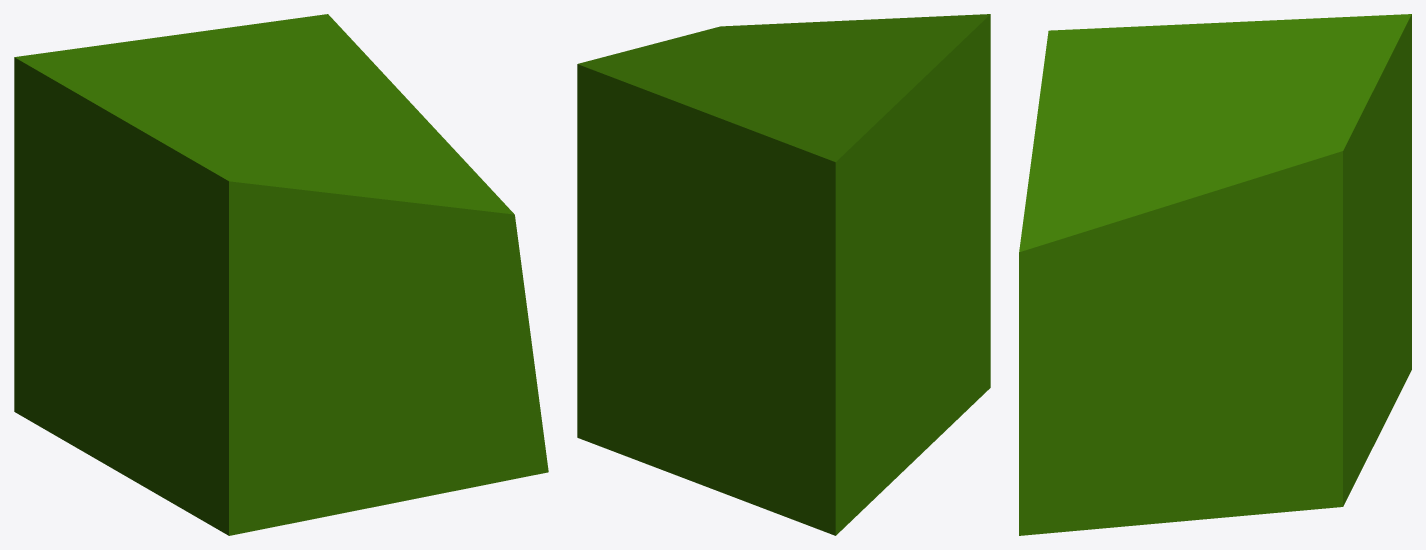
The model's file is BuildingSix.fbx.
3 renders of one model, left to right at view 1: azimuth 30°, elevation 25°; view 2: azimuth 150°, elevation 25°; view 3: azimuth 270°, elevation 25°, orthographic. The views are drawn at different scales.
Parts seen in each view (by area): view 1: Empty_Mesh; view 2: Empty_Mesh; view 3: Empty_Mesh.
Part boxes in pixels (box(x1,y1,x2,y2)): Empty_Mesh: box(14, 14, 548, 535); Empty_Mesh: box(577, 14, 990, 535); Empty_Mesh: box(1019, 14, 1411, 535).
Size of the model in its own units: 800 by 800 by 800.
